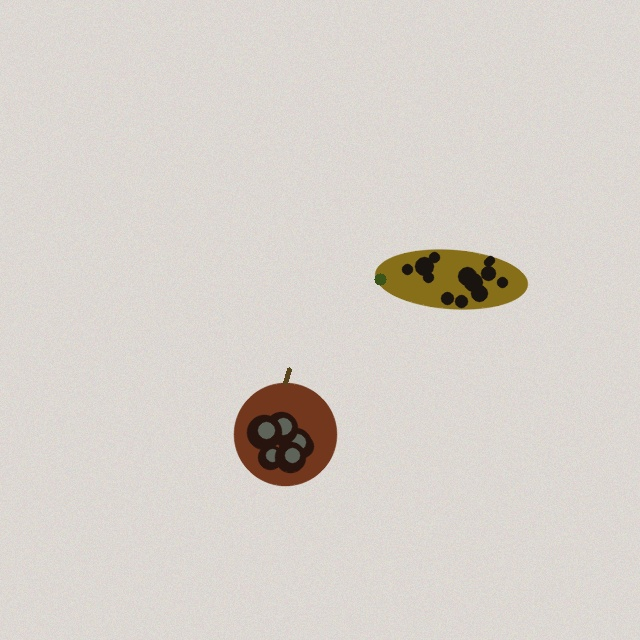Rotten apple: (234, 369, 336, 485)
Rotten banana: (372, 243, 530, 315)
